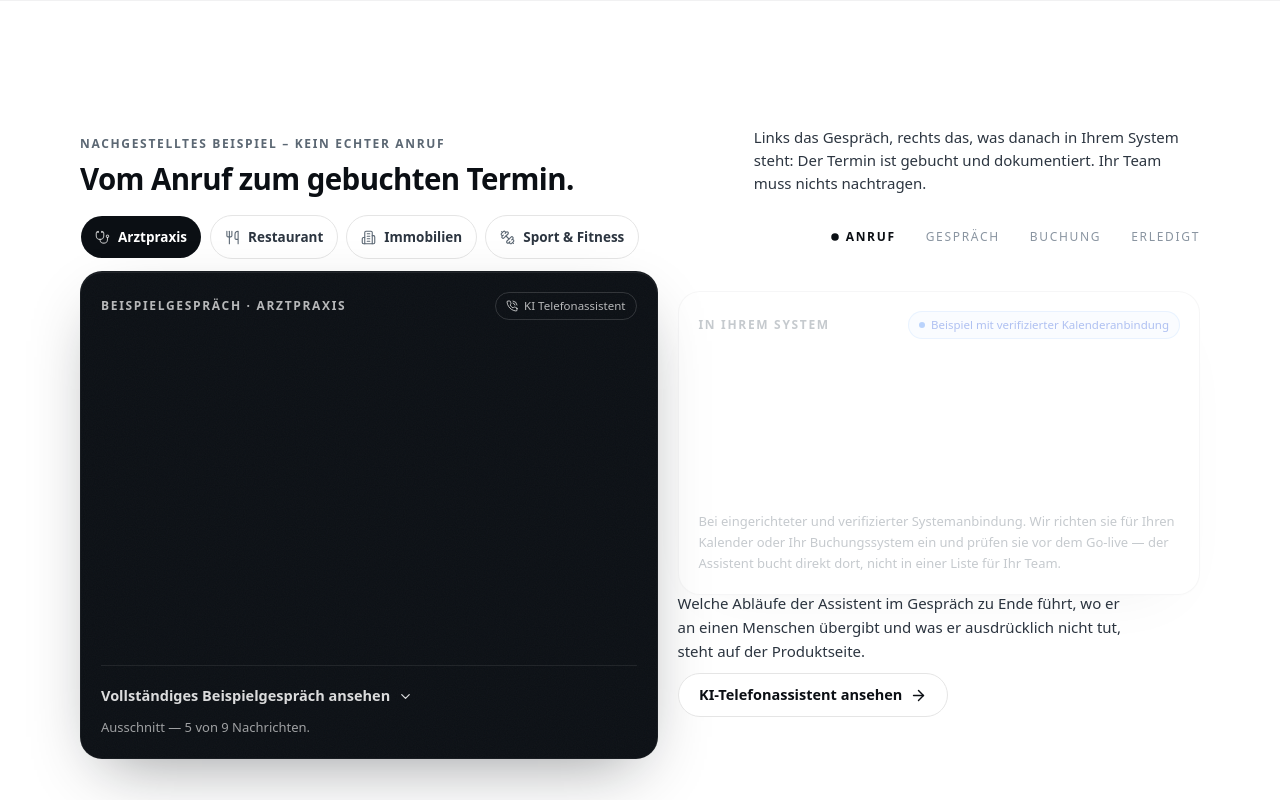
Test: Beispiel — Ausschnitt zuerst, vollständiges Protokoll auf Wunsch › wechselt die Branche und beginnt dort wieder mit dem Ausschnitt
Click the button "Vollständiges Beispielgespräch ansehen".
click(257, 696)  # box [101,678,413,714]
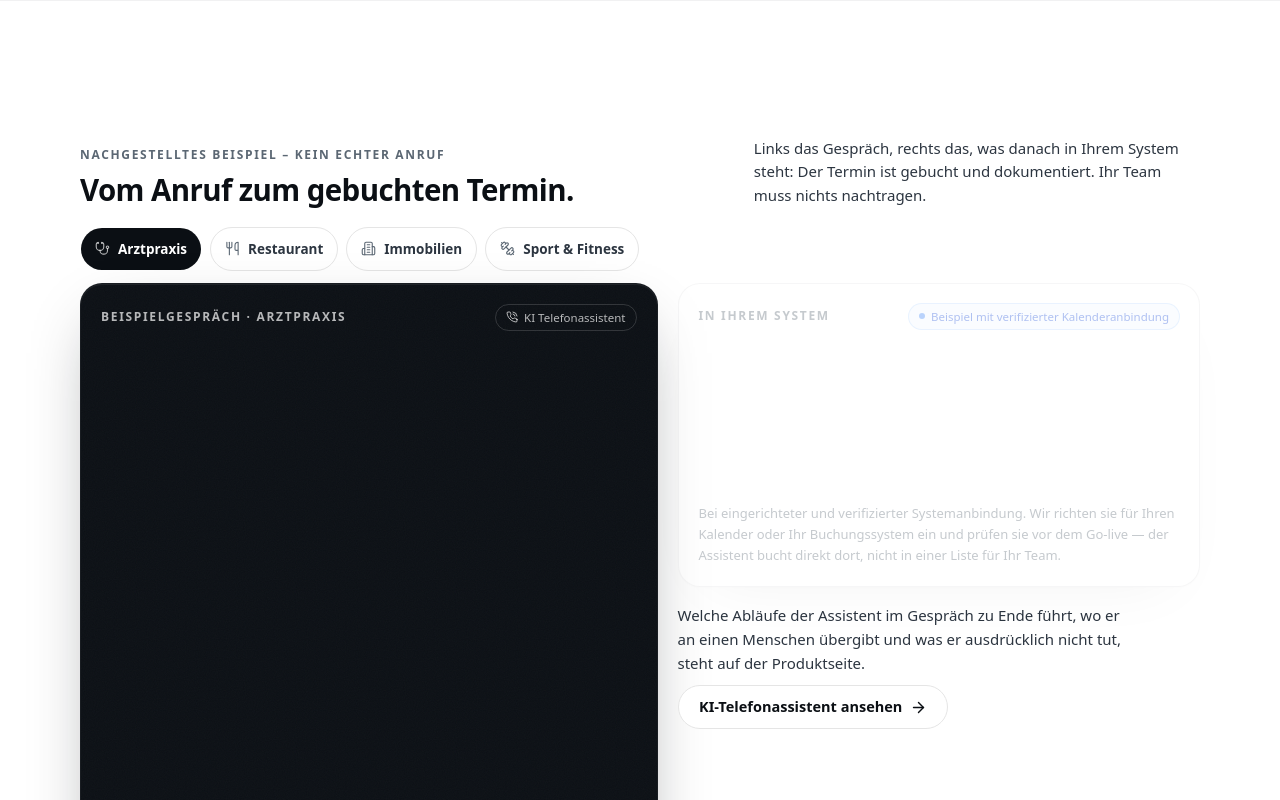
Click the tab "Restaurant".
click(274, 249)  # box [210,227,338,271]
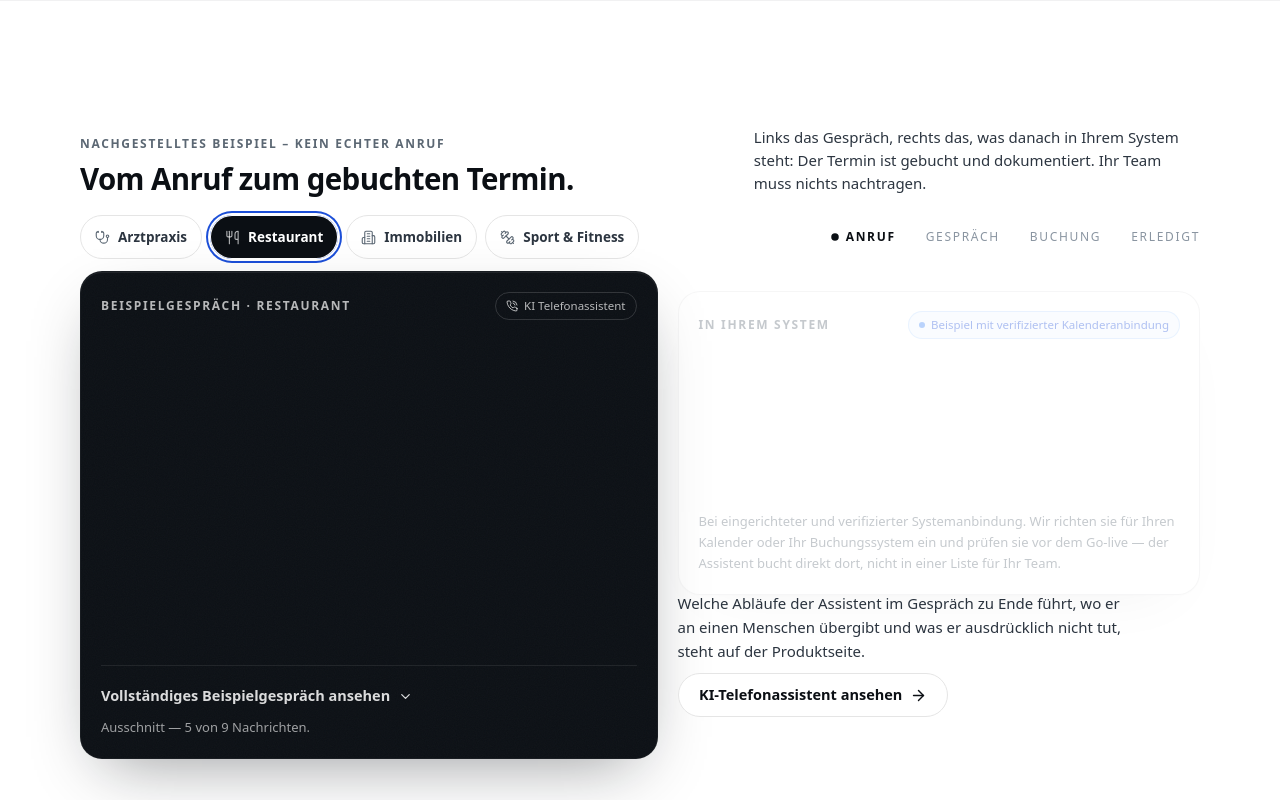
expect the text "Ausschnitt — 5 von 9 Nachrichten." is shown: met, box [101,718,310,736]
